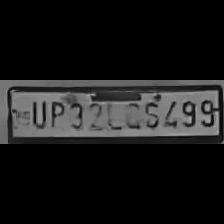2: (87, 96, 105, 130)
3: (66, 97, 84, 129)
4: (161, 96, 179, 128)
9: (198, 96, 218, 128), (179, 96, 197, 128)
C: (124, 94, 140, 130)
L: (104, 94, 120, 130)
P: (46, 97, 64, 128)
S: (141, 95, 159, 129)
U: (27, 97, 47, 128)
